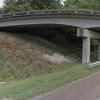Bridge: (2, 6, 94, 38)
